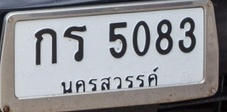txt01: (32, 26, 58, 67)
txt30: (62, 24, 88, 64)
